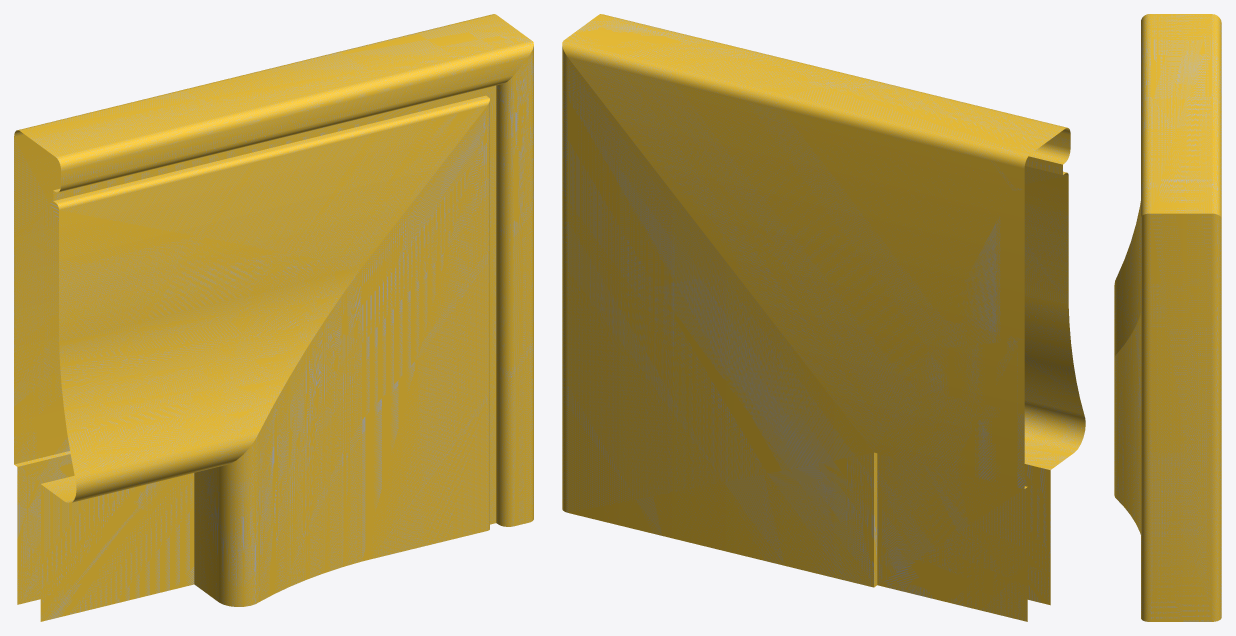
Rendered from original-62.obj.
3 views of the same model, side by side, from view 1: azimuth 30°, elevation 25°; view 2: azimuth 150°, elevation 25°; view 3: azimuth 270°, elevation 25° (orthographic). The views are drawn at different scales.
Visible parts, largest first — view 1: RB_11_TR1/RB_11_TR/mesh41/mesh41-geometry#mesh41-geometry; view 2: RB_11_TR1/RB_11_TR/mesh41/mesh41-geometry#mesh41-geometry; view 3: RB_11_TR1/RB_11_TR/mesh41/mesh41-geometry#mesh41-geometry.
Boxes of the visible parts, x1,y1,x2,y2 form: RB_11_TR1/RB_11_TR/mesh41/mesh41-geometry#mesh41-geometry: (14,14,533,621); RB_11_TR1/RB_11_TR/mesh41/mesh41-geometry#mesh41-geometry: (562,14,1085,621); RB_11_TR1/RB_11_TR/mesh41/mesh41-geometry#mesh41-geometry: (1114,14,1221,621).
Bounding box in the file's own units: 0.1021 × 0.0974 × 0.0232.
